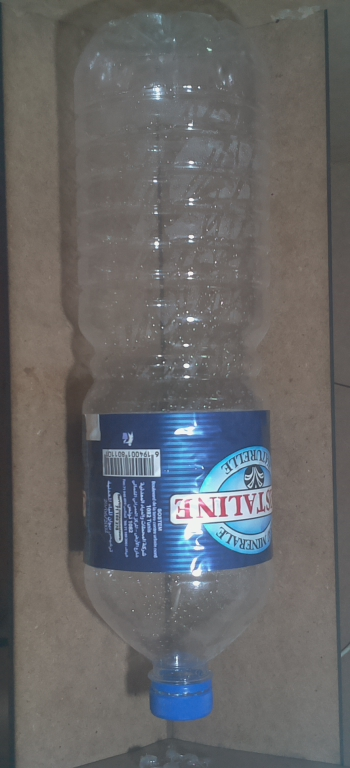Bouteille_2L: (64, 5, 294, 727)
